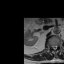CCS_normal: (54, 44, 55, 51)
LFS_severe_stenosis: (57, 44, 59, 47)
LLS_normal: (55, 44, 57, 49)
RFS_stenosis: (50, 44, 52, 48)
RLS_normal: (52, 44, 54, 49)
